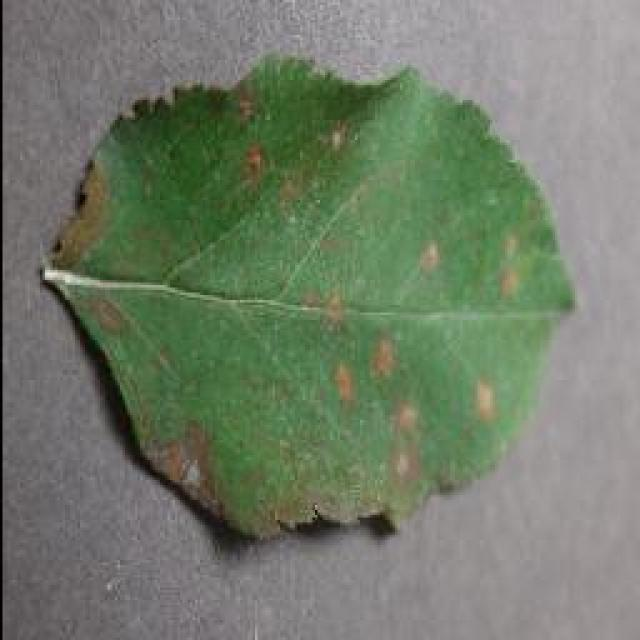apple healthy: (38, 50, 578, 542)
